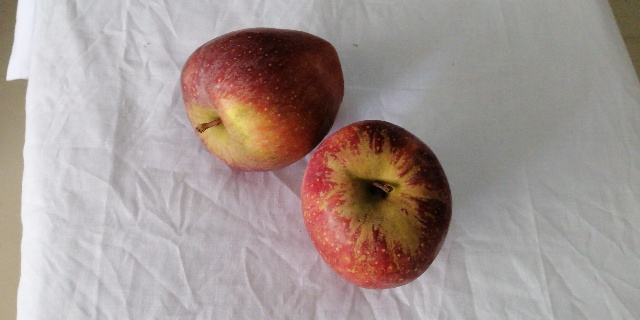apple_kashmir: (177, 24, 347, 174), (300, 121, 450, 287)
